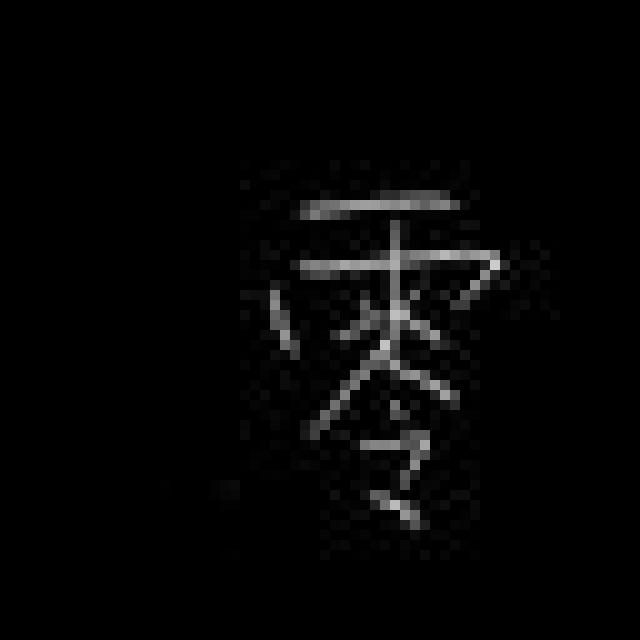0 -zero-: (259, 182, 509, 545)
